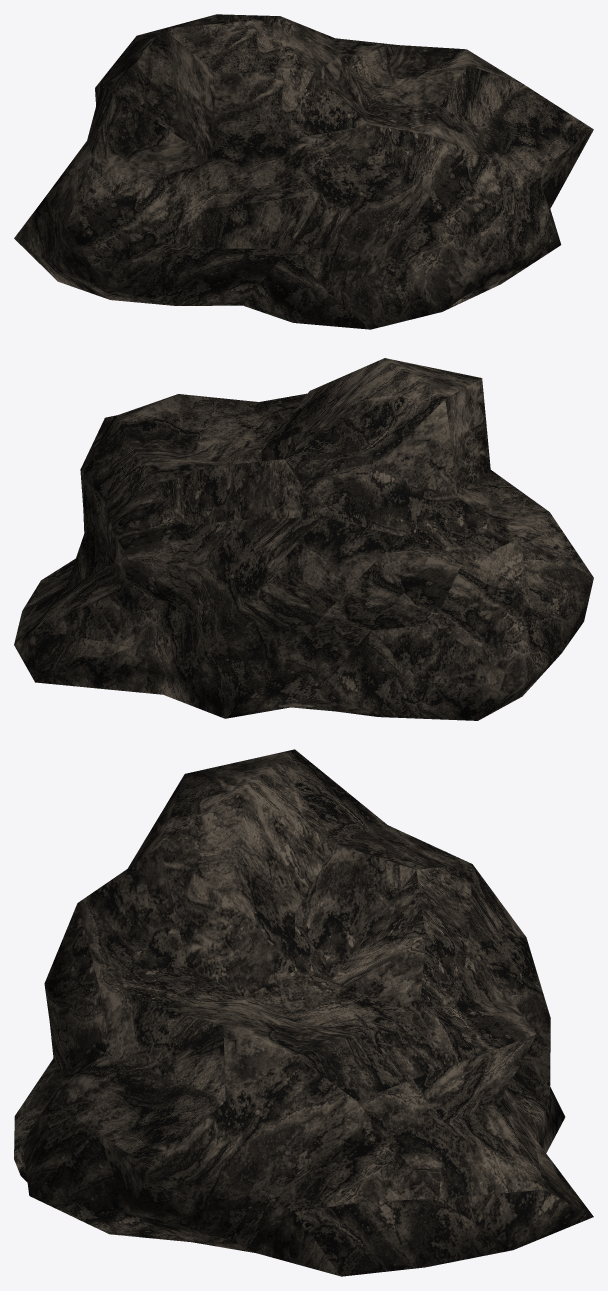
The model's file is rock_4.glb.
3 renders of one model, top to bottom at view 1: azimuth 30°, elevation 25°; view 2: azimuth 150°, elevation 25°; view 3: azimuth 270°, elevation 25°, orthographic. The views are drawn at different scales.
Visible parts, largest first — view 1: rock; view 2: rock; view 3: rock.
Part boxes in pixels (x1,y1,x2,y2): rock: (14, 14, 593, 329); rock: (14, 358, 593, 720); rock: (14, 749, 593, 1276).
Bounding box in the file's own units: 27.32 × 13.24 × 22.12.
Materials: 1 (1 with a texture image).
